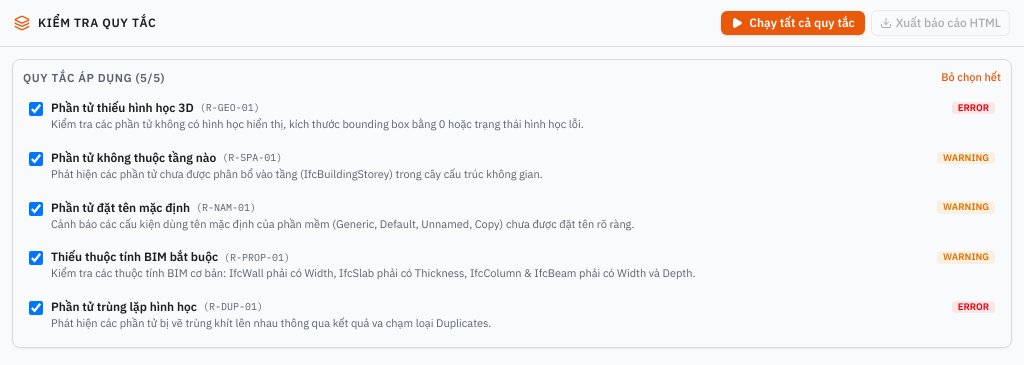
it: RulePanel Component › toggles rule checkboxes and toggle all button
Step 1. Click the checkbox with test id "rule-toggle-R-GEO-01" → click(36, 109), box [29,102,43,116]
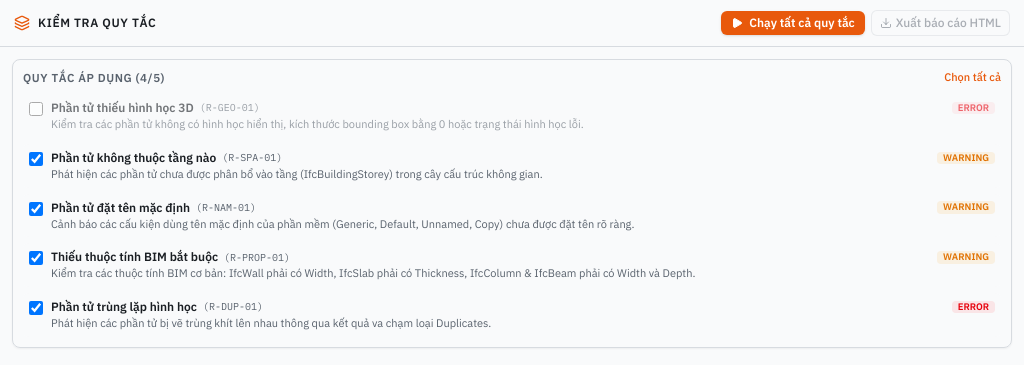
Result: the checkbox with test id "rule-toggle-R-GEO-01" is not checked at [29,102,43,116]
// First click to select all
Step 2. Click the button with test id "toggle-all-rules-btn" → click(973, 78), box [944,70,1001,86]
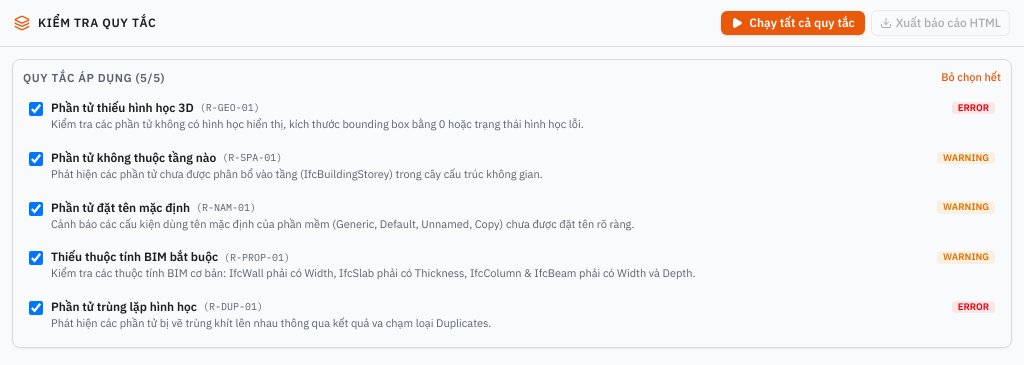
Result: the checkbox with test id "rule-toggle-R-GEO-01" is checked at [29,102,43,116]
// Second click to deselect all
Step 3. Click the button with test id "toggle-all-rules-btn" → click(971, 78), box [941,70,1001,86]
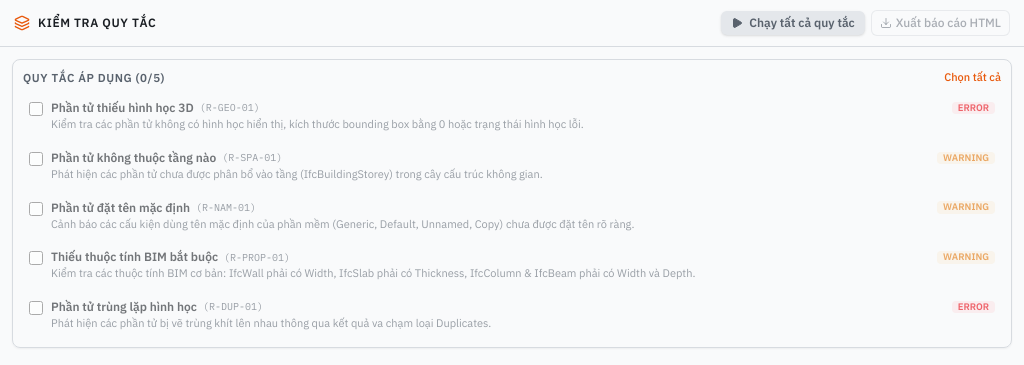
Result: the checkbox with test id "rule-toggle-R-GEO-01" is not checked at [29,102,43,116]
Result: the button with test id "run-rules-btn" is disabled at [721,11,865,35]
